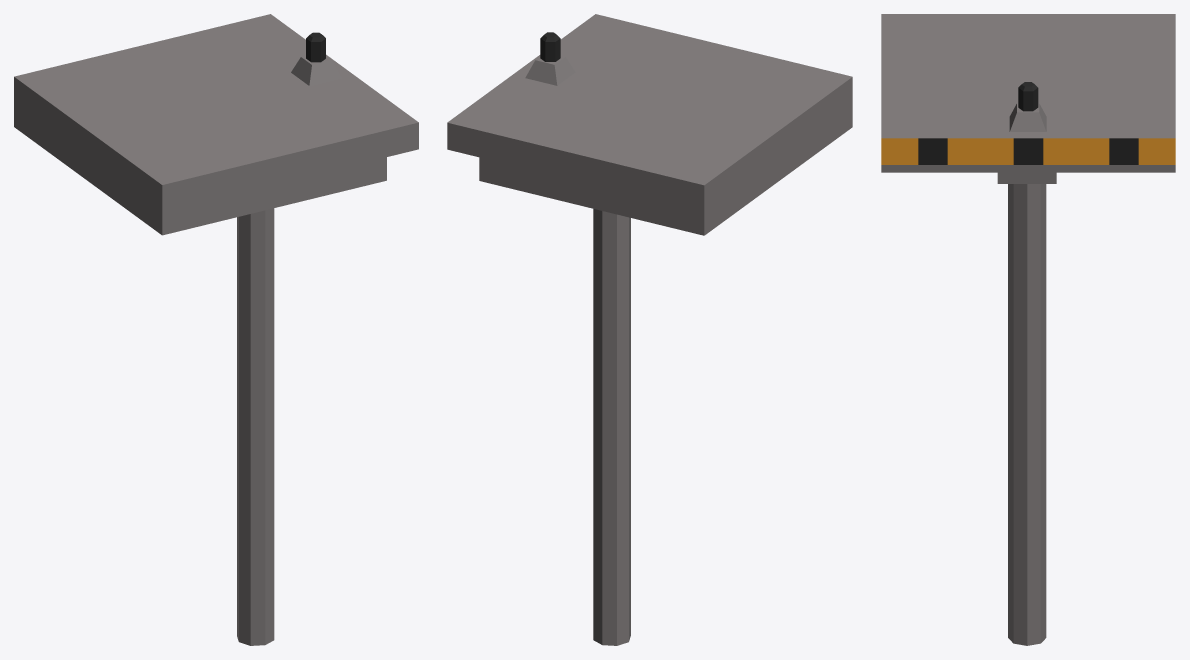
The model's file is props_pier-concrete-side.fbx.
3 views of the same model, side by side, from view 1: azimuth 30°, elevation 25°; view 2: azimuth 150°, elevation 25°; view 3: azimuth 270°, elevation 25° (orthographic).
Parts seen in each view (by area): view 1: props_pier_concrete_side; view 2: props_pier_concrete_side; view 3: props_pier_concrete_side.
Part boxes in pixels (x1,y1,x2,y2): props_pier_concrete_side: (14, 14, 418, 645); props_pier_concrete_side: (447, 14, 852, 645); props_pier_concrete_side: (881, 14, 1175, 645).
Size of the model in its own units: 91.43 by 200 by 91.43.
